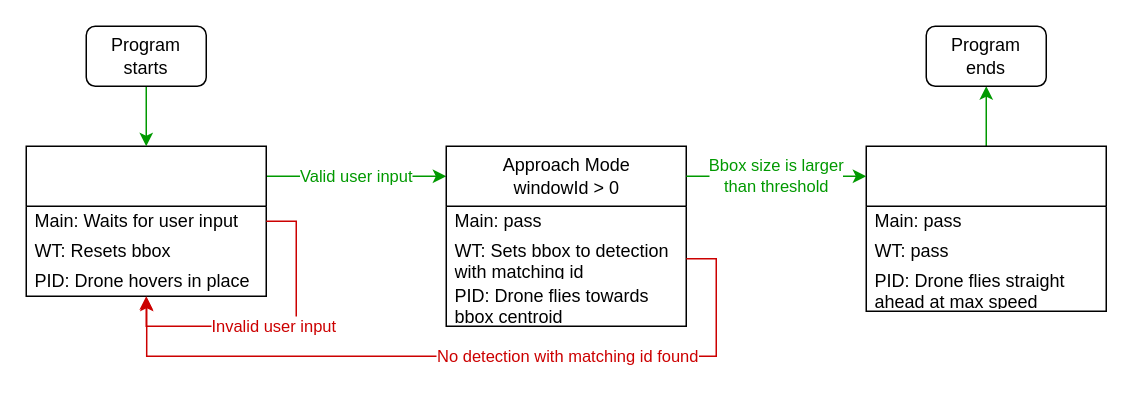
The diagram is 1133 pixels wide and 395 high, and some of its shapes have lost their labels. Each missing label, with the box of its shape:
Ram Mode windowId = 0: (865, 145, 1106, 311)
Standby Mode windowId = -1: (25, 145, 266, 296)
